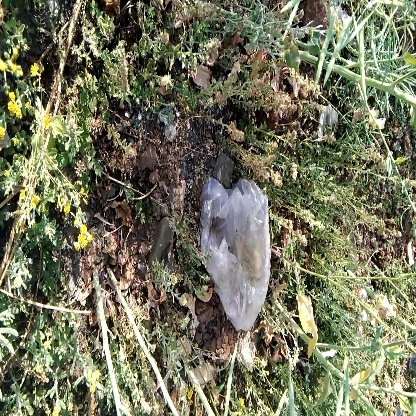plastic-bag: (201, 176, 276, 335)
